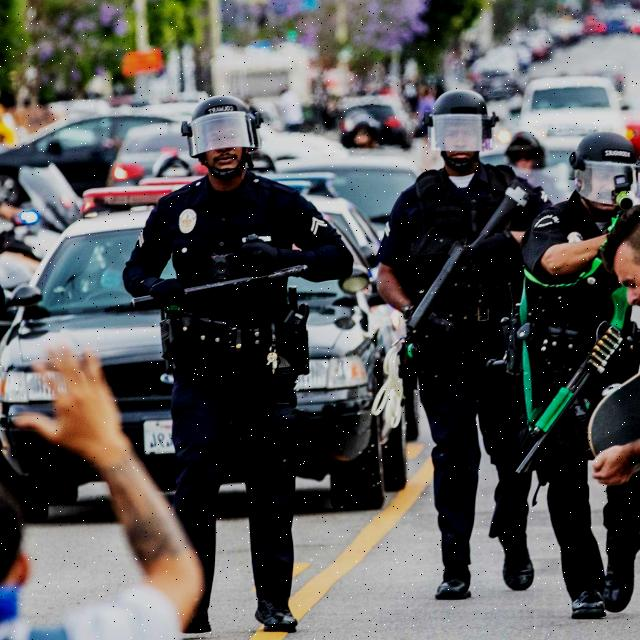police: (114, 86, 339, 640), (363, 83, 559, 608), (528, 127, 640, 610)
